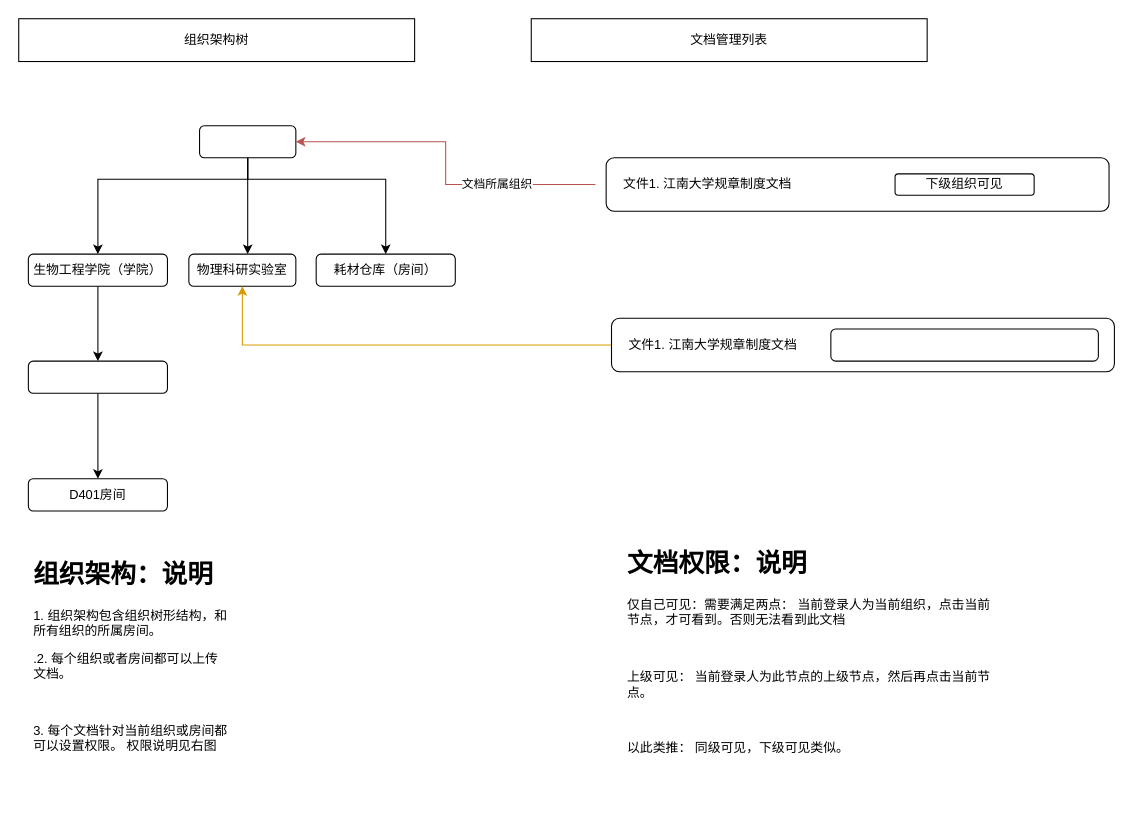
This 1133x829 diagram has some shape labels left out. The shapes that lost their labels are listed below. From the top down, each one's centre as x and y in pixels, then its label:
At pixel 247 141: "江南大学".
At pixel 964 344: "下级可见 同级可见 上级可见 仅自己可见".
At pixel 97 376: "生物工程实验室".
